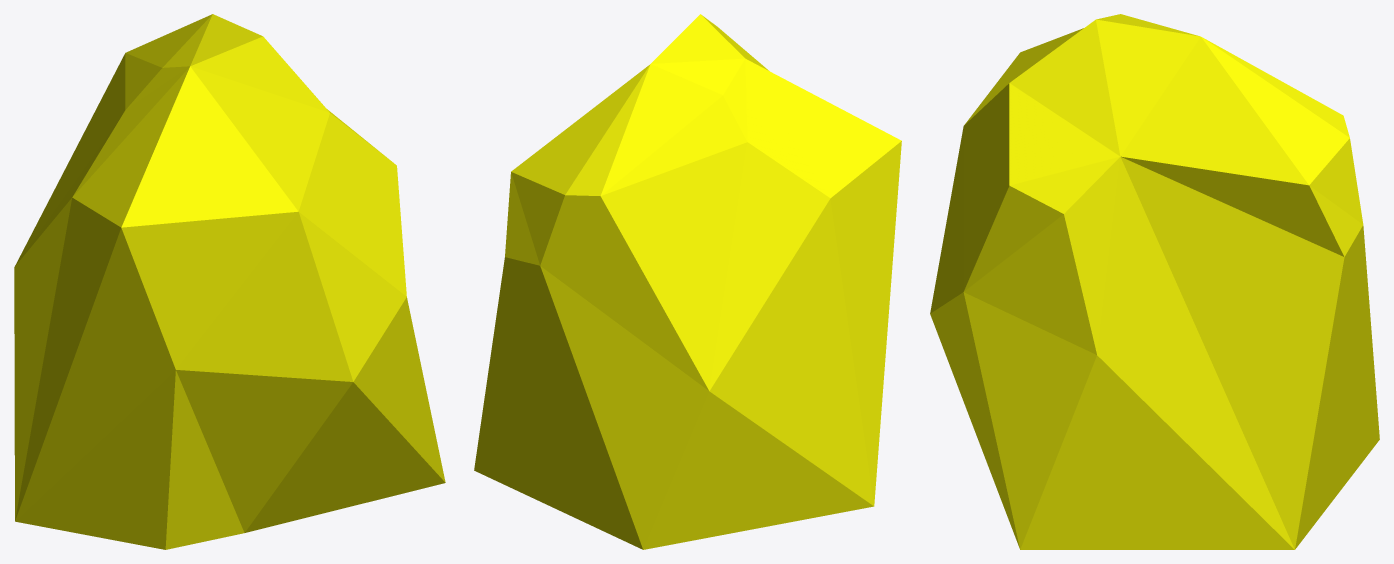
The model's file is stone01.glb.
3 views of the same model, side by side, from view 1: azimuth 30°, elevation 25°; view 2: azimuth 150°, elevation 25°; view 3: azimuth 270°, elevation 25° (orthographic). The views are drawn at different scales.
Visible parts, largest first — view 1: stone01; view 2: stone01; view 3: stone01.
Part boxes in pixels (bbox=[...]): stone01: bbox=[14, 14, 445, 549]; stone01: bbox=[474, 14, 901, 549]; stone01: bbox=[930, 14, 1379, 549].
Size of the model in its own units: 1.62 by 2.02 by 1.72.
1 material, 1 textured.
